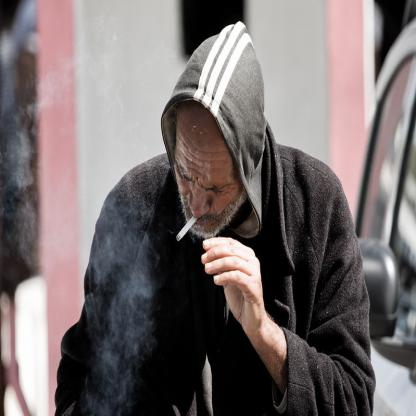smoking: (177, 214, 199, 241)
